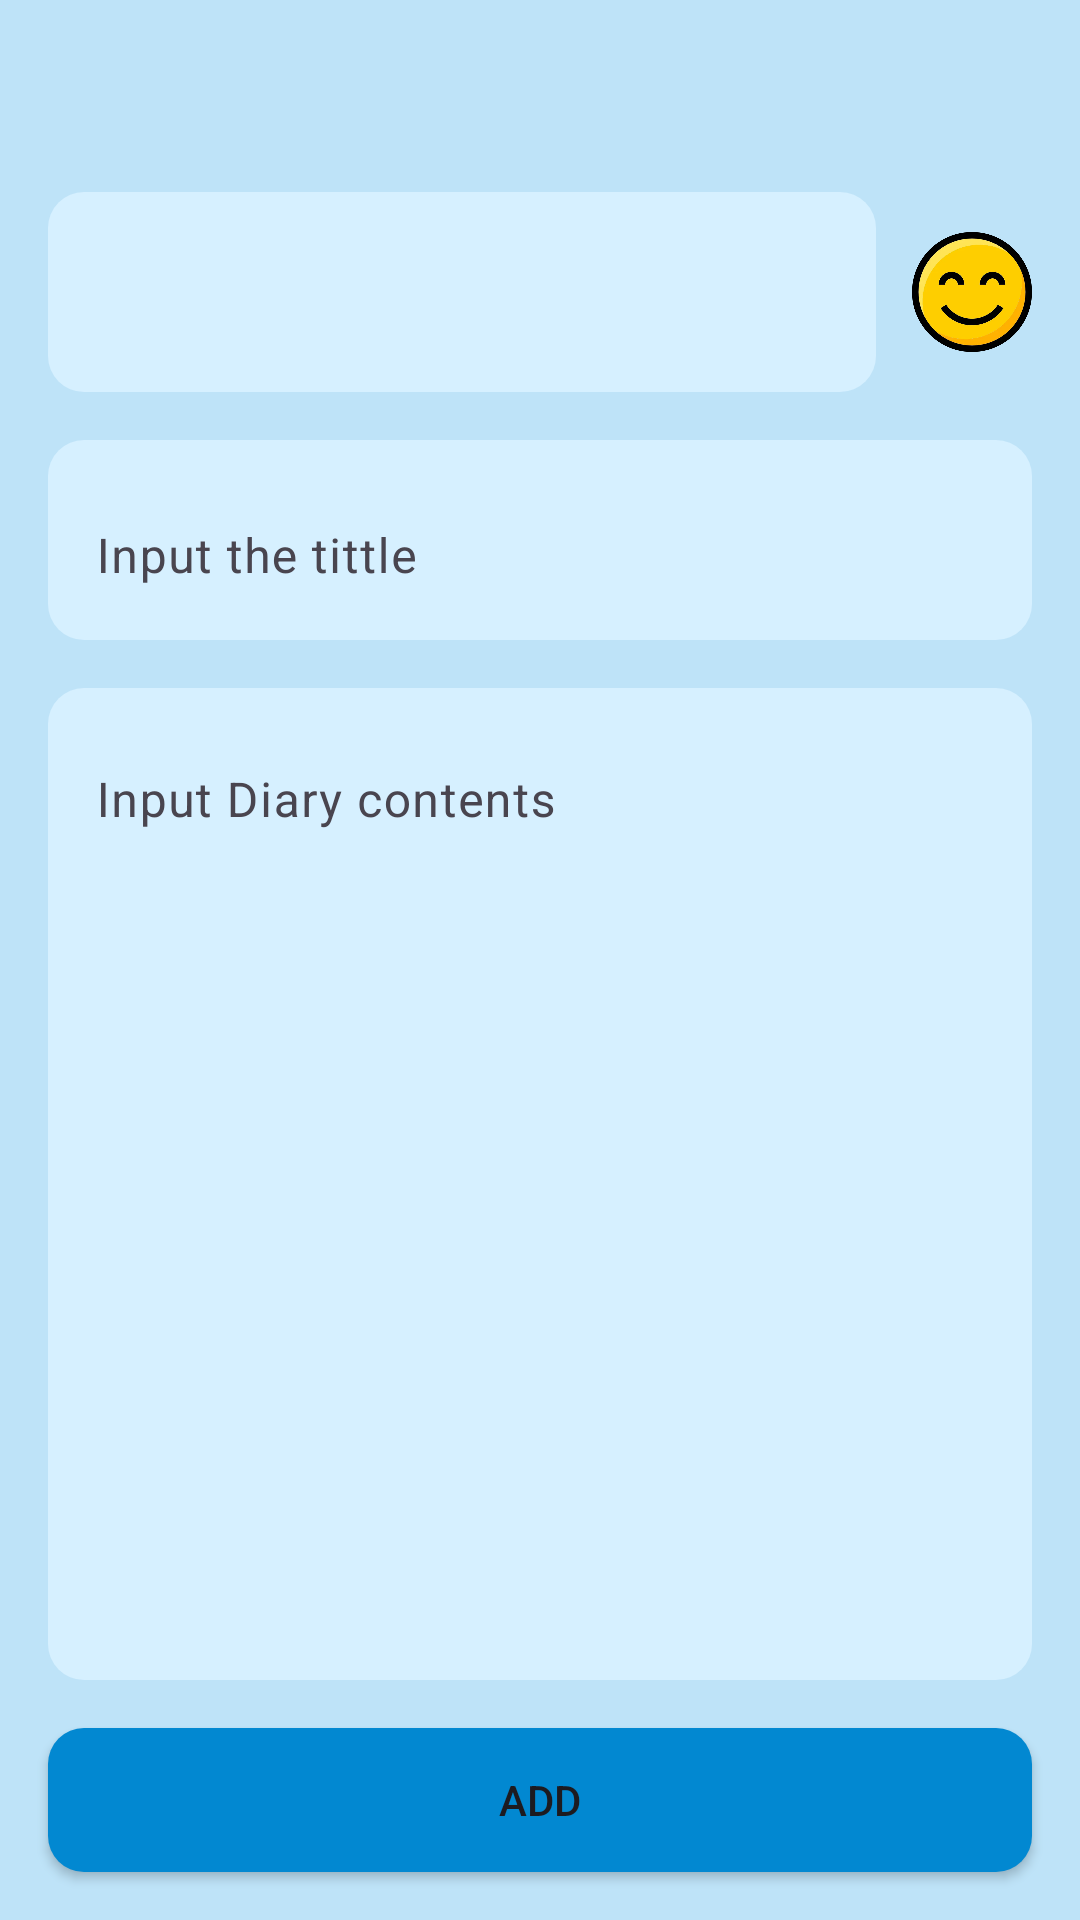

Screen size 1080px x 1920px. Icon name, then its center in pixels as (x,y):
happy: (972,292)
